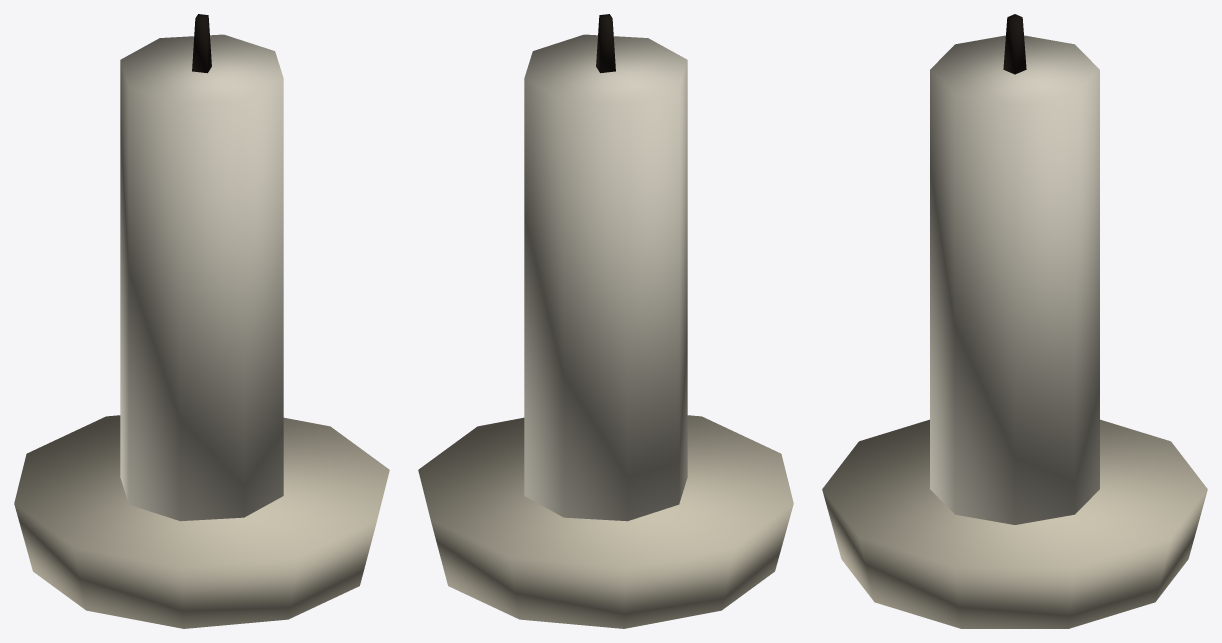
File: bone_candle_v0.glb
The picture shows the model from 3 angles, left to right: view 1: azimuth 30°, elevation 25°; view 2: azimuth 150°, elevation 25°; view 3: azimuth 270°, elevation 25°; orthographic projection.
Visible parts, largest first — view 1: bone_candle_v0; view 2: bone_candle_v0; view 3: bone_candle_v0.
Boxes of the visible parts, x1=… form: bone_candle_v0: x1=14, y1=14, x2=389, y2=628; bone_candle_v0: x1=418, y1=14, x2=793, y2=628; bone_candle_v0: x1=822, y1=14, x2=1207, y2=628.
Bounding box in the file's own units: 0.0951 × 0.155 × 0.1.
